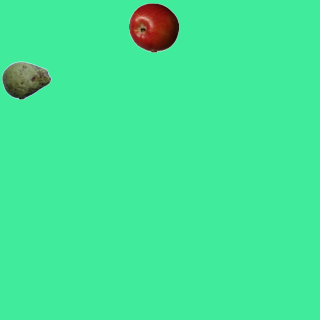Apple Braeburn: (128, 2, 178, 52)
Pear Stone: (1, 55, 51, 105)
